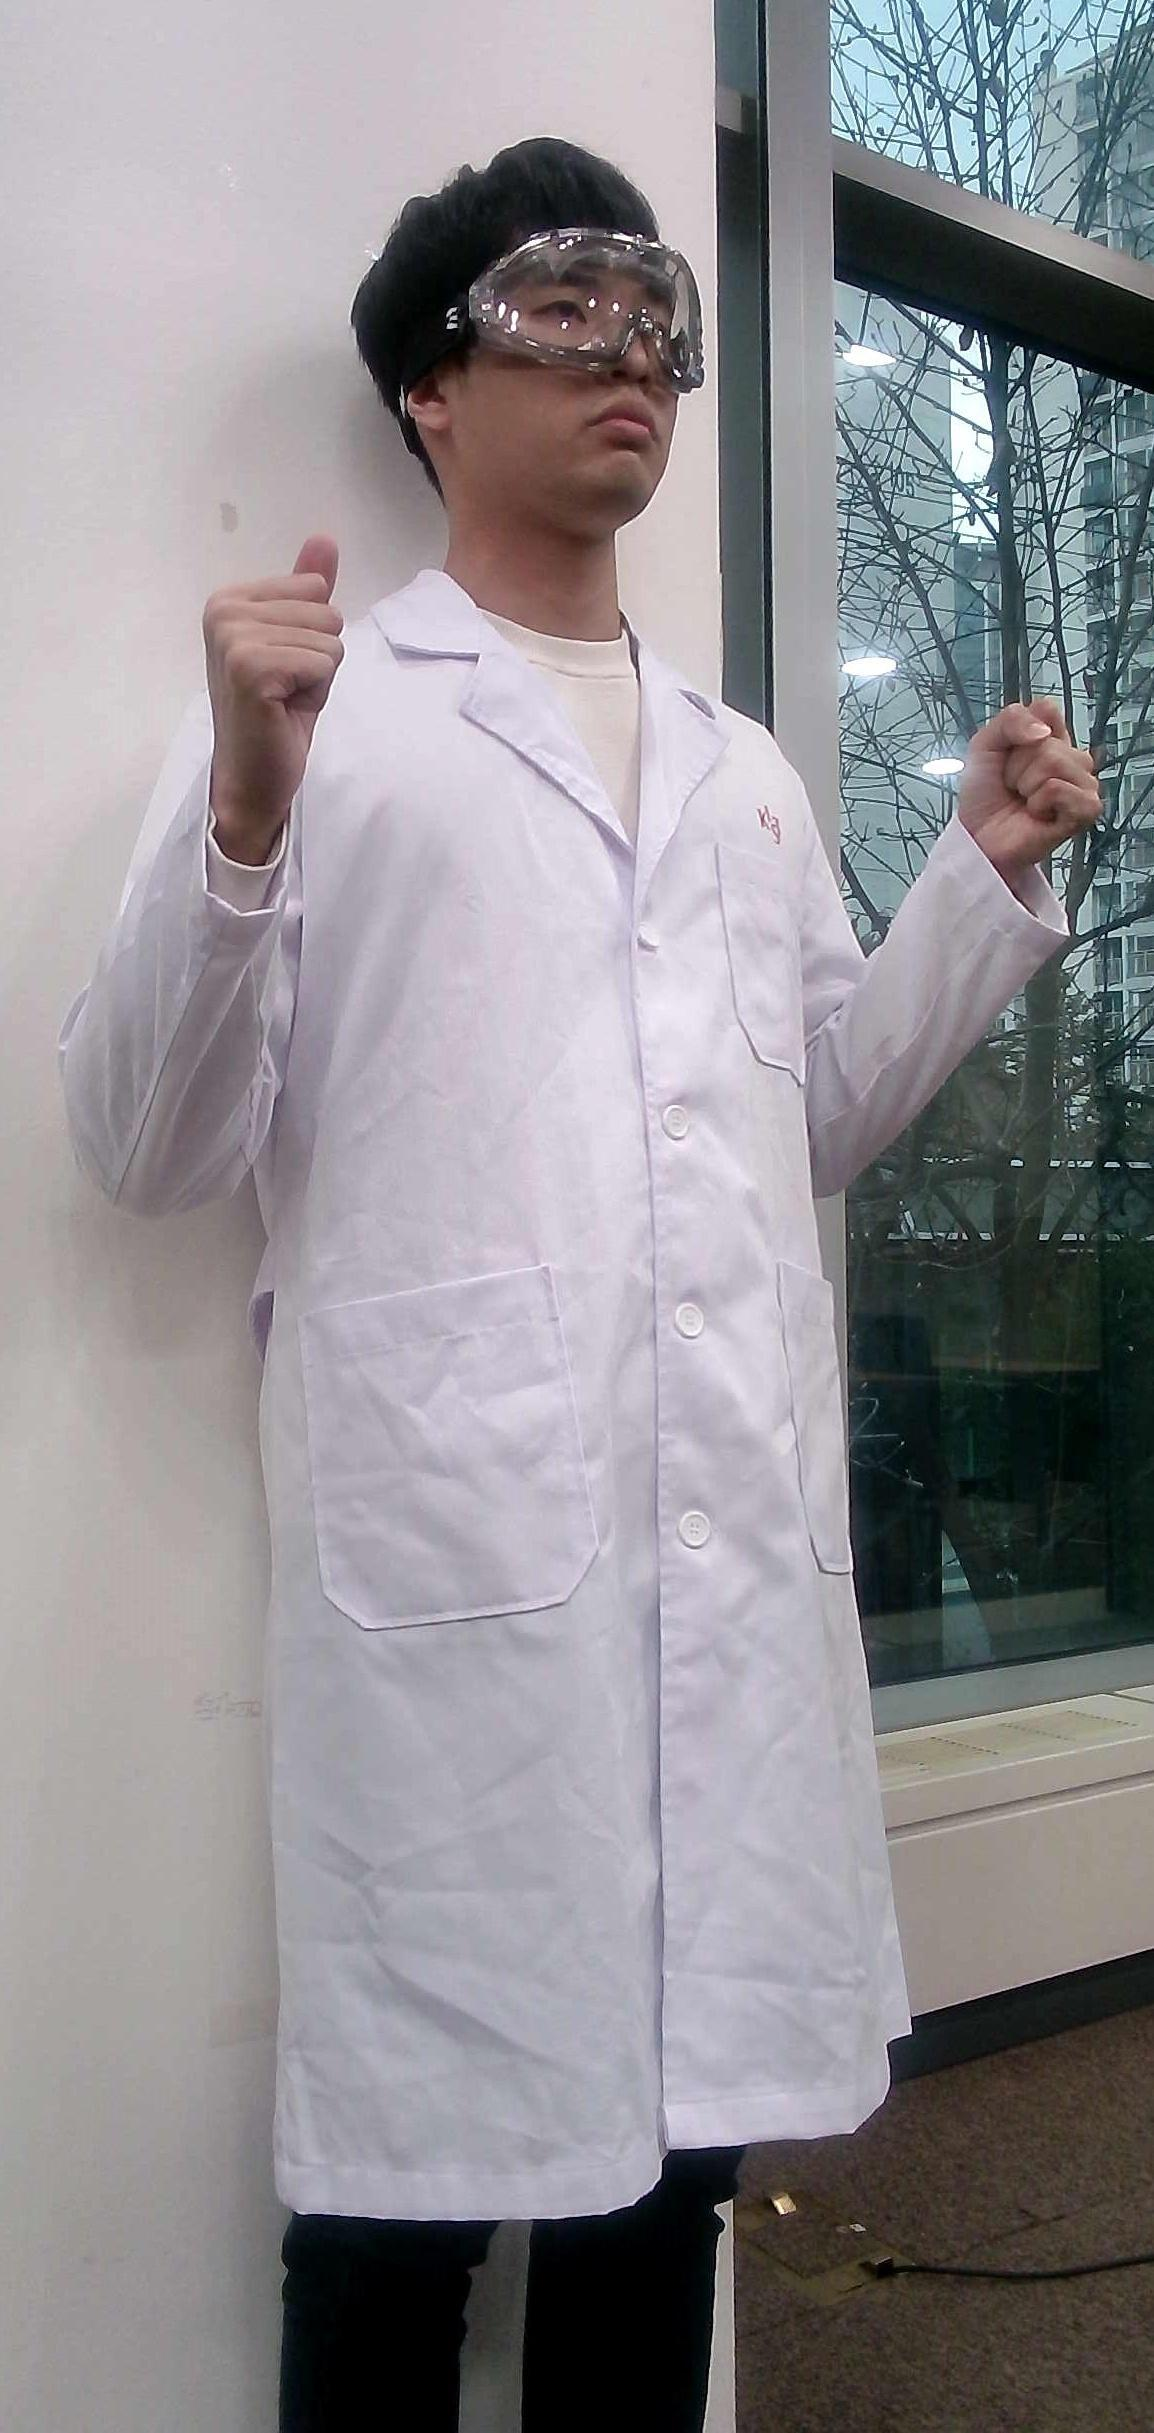lab_coat: (306, 771, 836, 2168)
